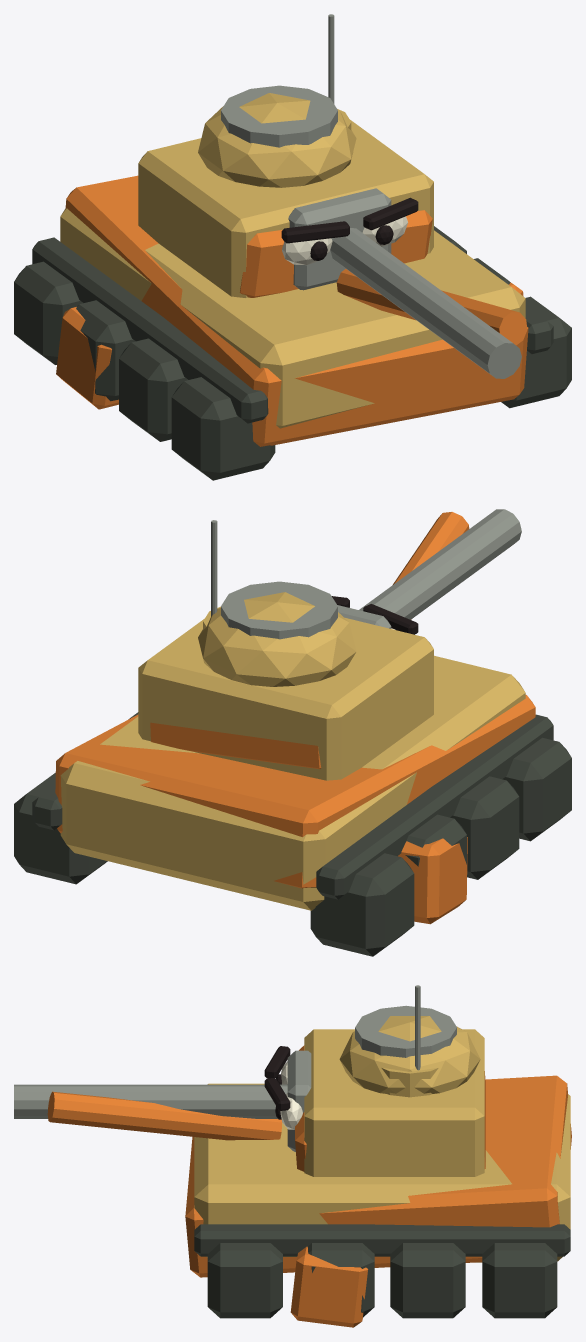
File: SillyPlayerTank.fbx
The picture shows the model from 3 angles, top to bottom: view 1: azimuth 30°, elevation 25°; view 2: azimuth 150°, elevation 25°; view 3: azimuth 270°, elevation 25°; orthographic projection. The views are drawn at different scales.
Visible parts, largest first — view 1: Hull, Hull_Damaged, Turret, Barrel, CommanderHelmet, LeftSideGuard, LeftWheel_0, LeftWheel_1, LeftWheel_3, Hatch, Turret_Damaged, GunMantlet (+9 smaller); view 2: Hull, Turret, Hull_Damaged, CommanderHelmet, LeftSideGuard, LeftWheel_3, Barrel, LeftWheel_0, LeftWheel_1, RightWheel_3, LeftWheel_Damaged, Hatch (+7 smaller); view 3: Turret, Hull_Damaged, Hull, RightSideGuard, Barrel_Damaged, Barrel, CommanderHelmet, RightWheel_0, RightWheel_3, RightWheel_2, RightWheel_Damaged, Hatch (+8 smaller).
Boxes of the visible parts, box(x1,y1,x2,y2) form: Hull: box(60, 208, 525, 428); Hull_Damaged: box(65, 175, 528, 446); Turret: box(138, 120, 433, 297); Barrel: box(330, 228, 521, 378); CommanderHelmet: box(198, 93, 356, 187); LeftSideGuard: box(32, 237, 268, 423); LeftWheel_0: box(171, 377, 275, 480); LeftWheel_1: box(119, 338, 187, 441); LeftWheel_3: box(14, 261, 82, 364); Hatch: box(221, 85, 337, 147); Turret_Damaged: box(240, 210, 432, 297); GunMantlet: box(288, 188, 391, 290); Hull: box(60, 655, 525, 910); Turret: box(138, 617, 433, 780); Hull_Damaged: box(55, 695, 535, 888); CommanderHelmet: box(198, 592, 356, 686); LeftSideGuard: box(316, 714, 553, 899); LeftWheel_3: box(310, 853, 414, 956); Barrel: box(359, 509, 521, 619); LeftWheel_0: box(502, 737, 571, 841); LeftWheel_1: box(450, 776, 519, 879); RightWheel_3: box(14, 773, 107, 884); LeftWheel_Damaged: box(398, 837, 467, 924); Hatch: box(221, 581, 337, 639); Turret: box(304, 1029, 484, 1176); Hull_Damaged: box(185, 1075, 571, 1277); Hull: box(194, 1083, 570, 1262); RightSideGuard: box(194, 1224, 570, 1256); Barrel_Damaged: box(47, 1091, 282, 1140); Barrel: box(14, 1084, 287, 1118); CommanderHelmet: box(339, 1016, 480, 1093); RightWheel_0: box(207, 1243, 282, 1318); RightWheel_3: box(482, 1243, 557, 1318); RightWheel_2: box(390, 1243, 465, 1318); RightWheel_Damaged: box(290, 1246, 368, 1327); Hatch: box(355, 1005, 456, 1057).
Bounding box in the file's own units: 4.9 × 4.09 × 7.12.
